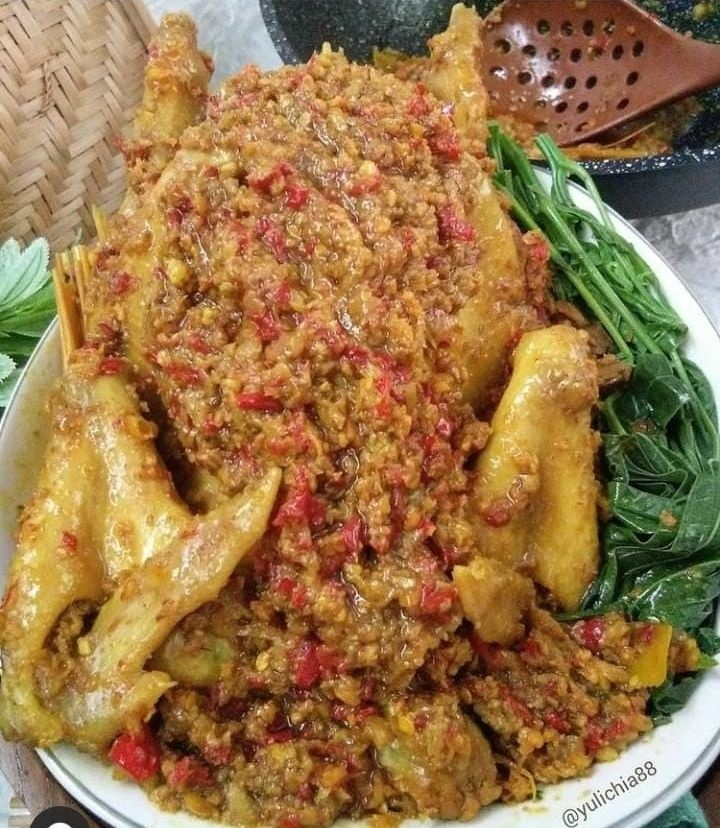ayam_betutu: (37, 11, 600, 828)
